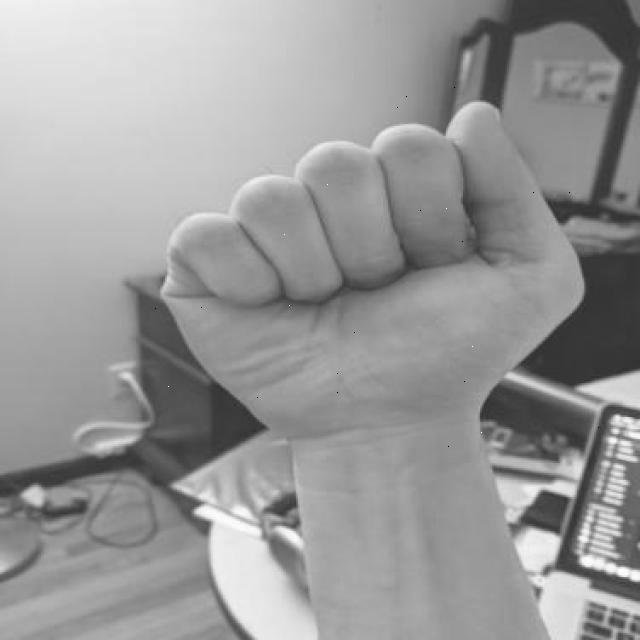A: (143, 81, 601, 462)
